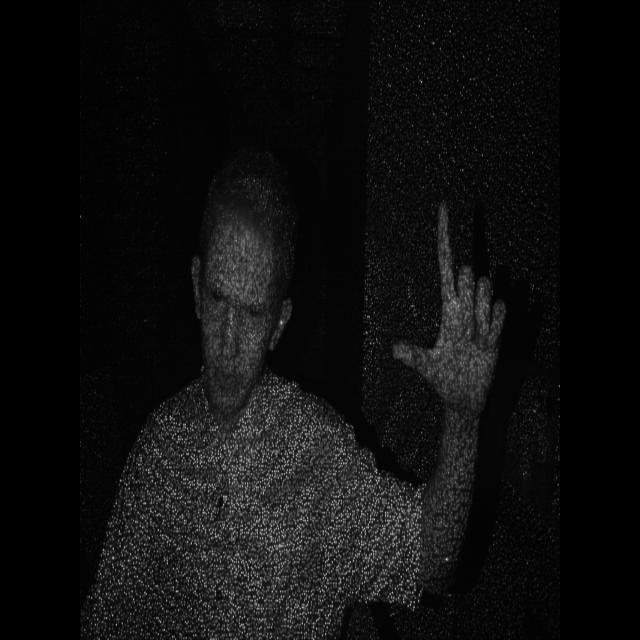L: (381, 184, 515, 409)
